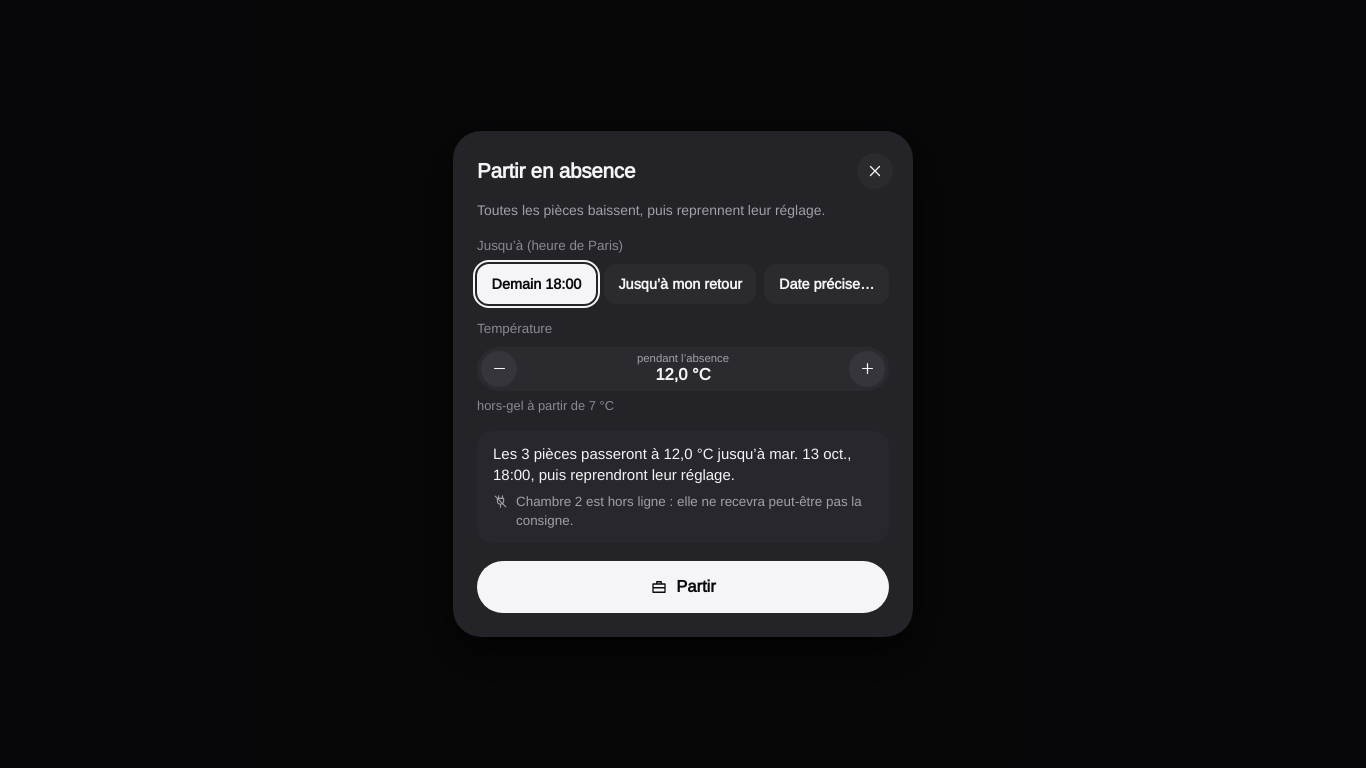
AwaySheet presets › « Date précise… » reveals the field, its minimum now + 15 min
The image size is (1366, 768).
Click the button "Date précise…".
click(827, 284)  # box [764,264,889,304]
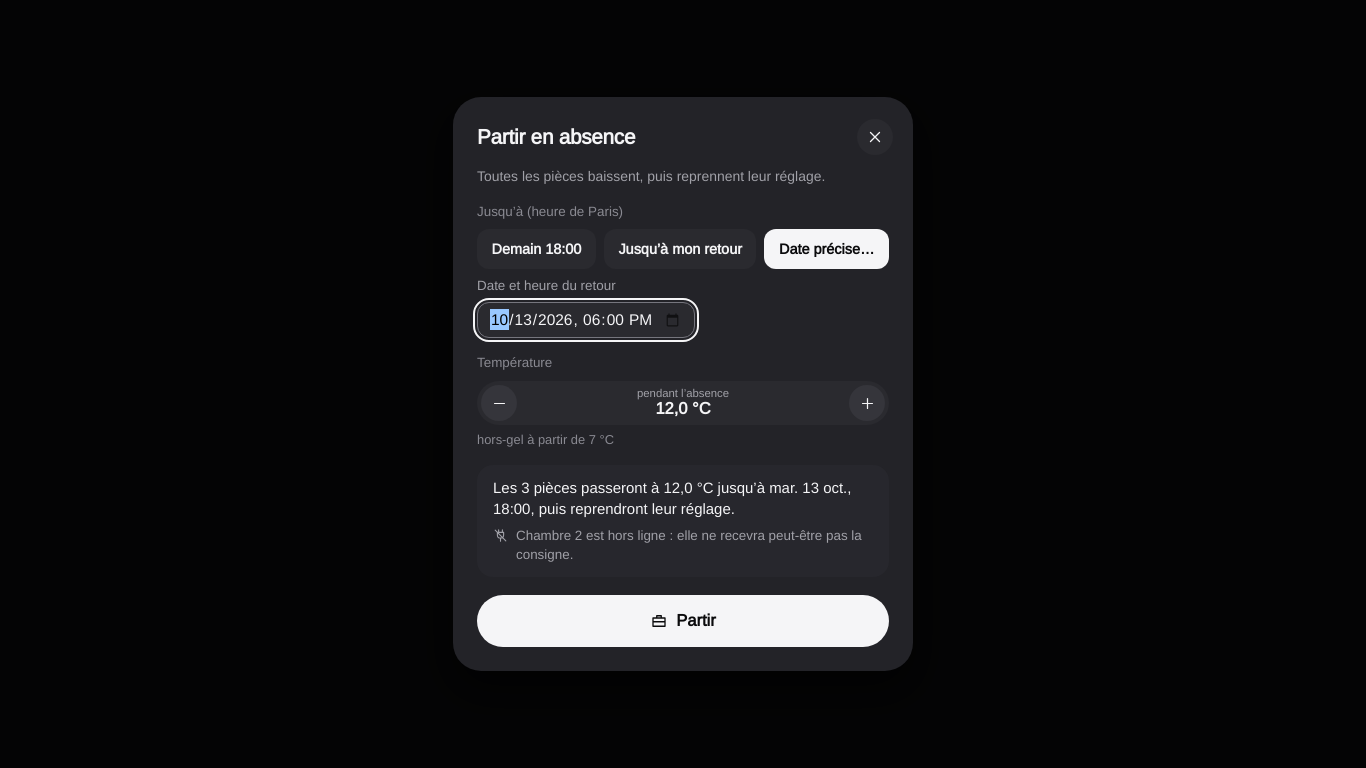
Expected: the field labelled "Date et heure du retour" holds "2026-10-13T18:00", [477,302,694,338]
